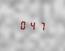four: (28, 19, 36, 31)
seven: (37, 20, 45, 31)
zero: (18, 19, 26, 30)
